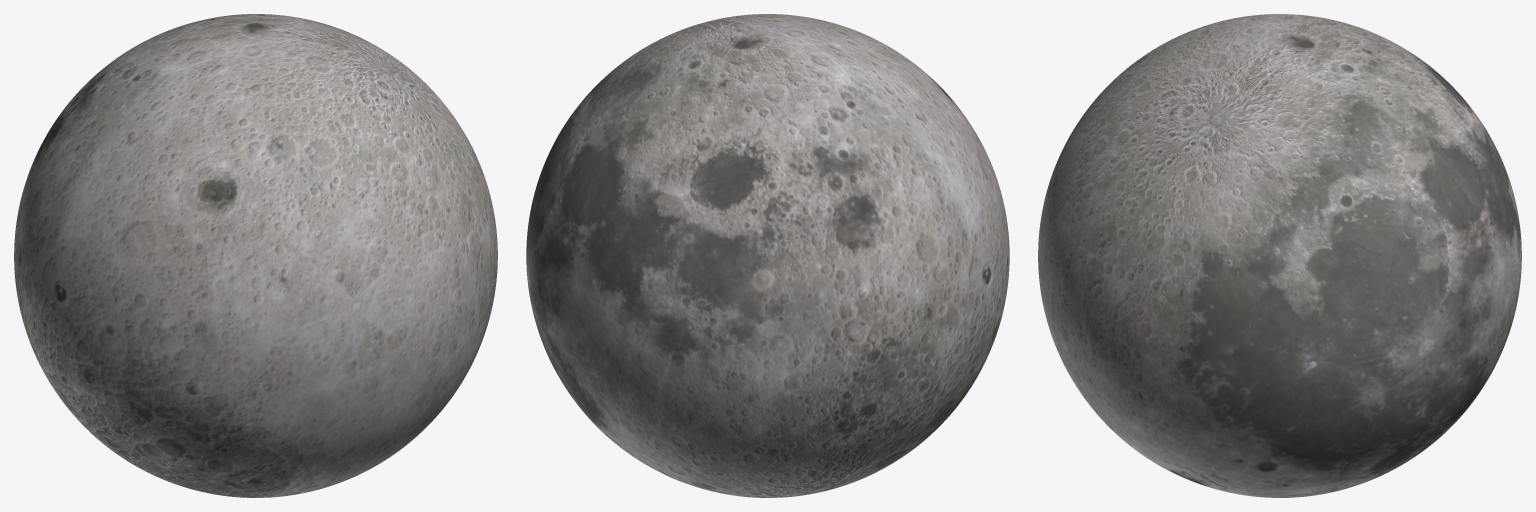
File: moon-opt.glb
3 views of the same model, side by side, from view 1: azimuth 30°, elevation 25°; view 2: azimuth 150°, elevation 25°; view 3: azimuth 270°, elevation 25° (orthographic).
Visible parts, largest first — view 1: Sphere; view 2: Sphere; view 3: Sphere.
Boxes of the visible parts, x1=… form: Sphere: x1=14, y1=14, x2=497, y2=497; Sphere: x1=526, y1=14, x2=1009, y2=497; Sphere: x1=1038, y1=14, x2=1521, y2=497.
Size of the model in its own units: 2 by 2 by 2.
1 material, 1 textured.
